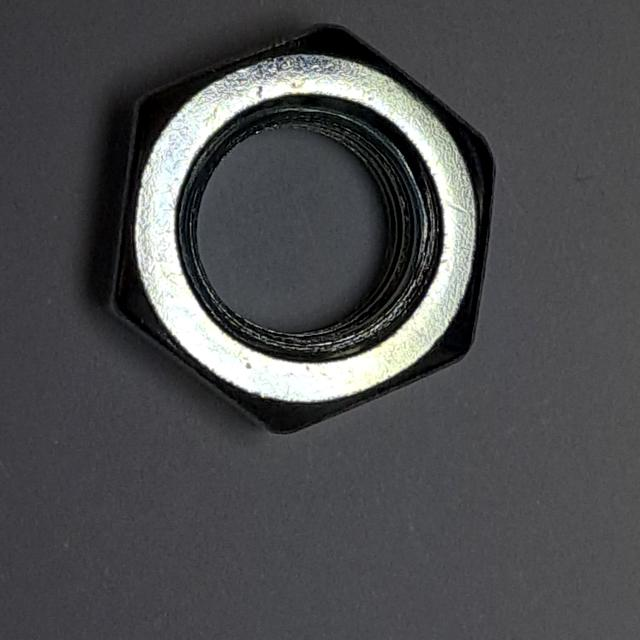Excellent: (91, 13, 508, 451)
